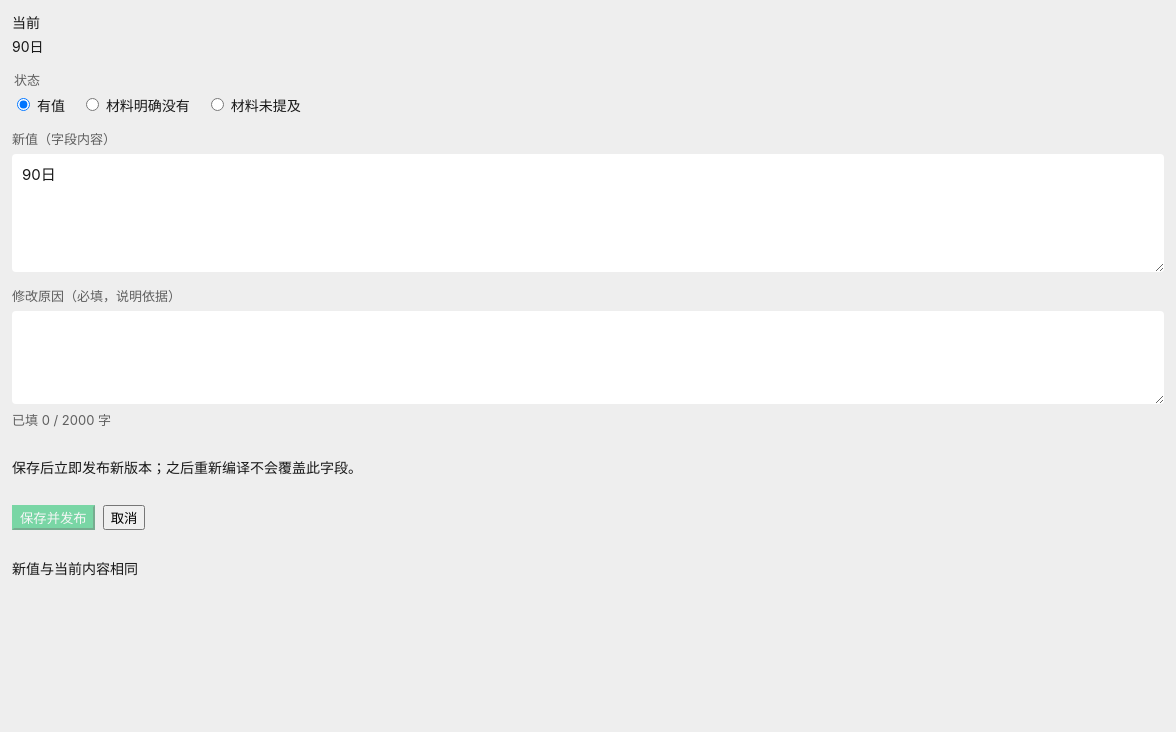
Test case: refusals › RELEASE_ACCESS_DENIED (403) explains itself and keeps the input
Replace the text in the text box labelled "新值（字段内容）" with "180日" at (588, 213), box [12,154,1164,272]
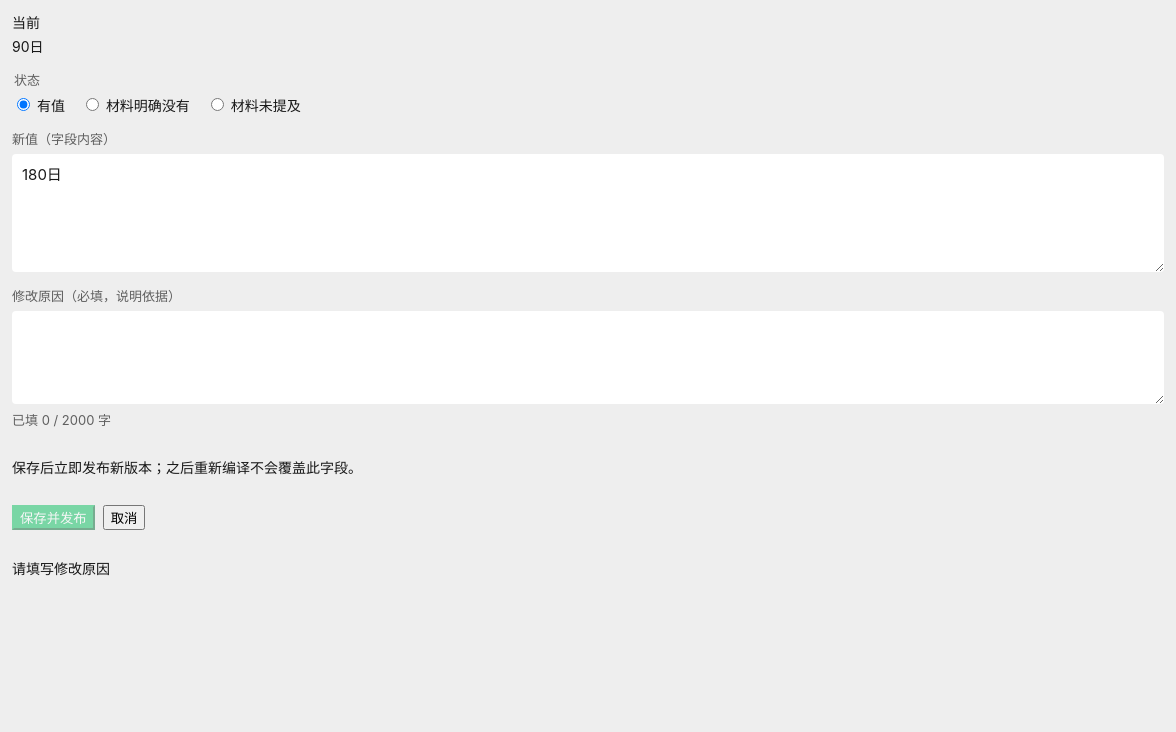
Type "备案条款第五条" into the text box labelled "修改原因（必填，说明依据） 已填 0 / 2000 字" at (588, 357), box [12,311,1164,404]
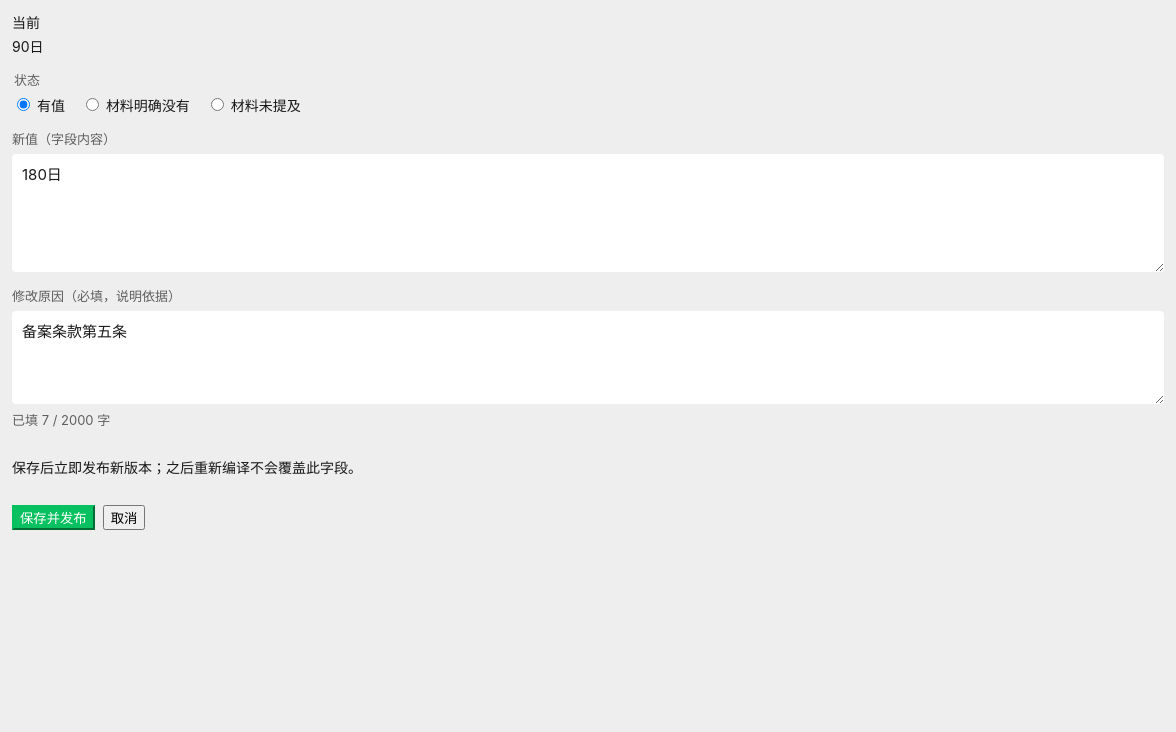
Click the button "保存并发布" at (53, 517), box [12,504,95,530]
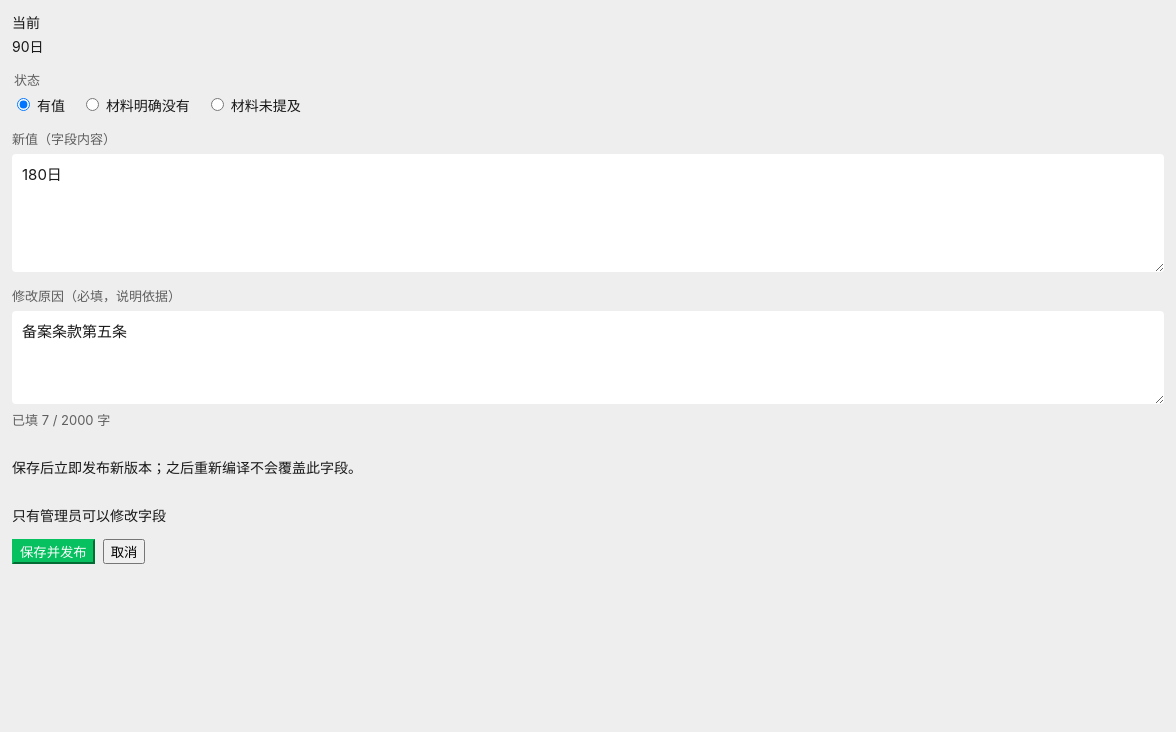
Expected: the message "只有管理员可以修改字段" is shown, [12,506,166,524]
